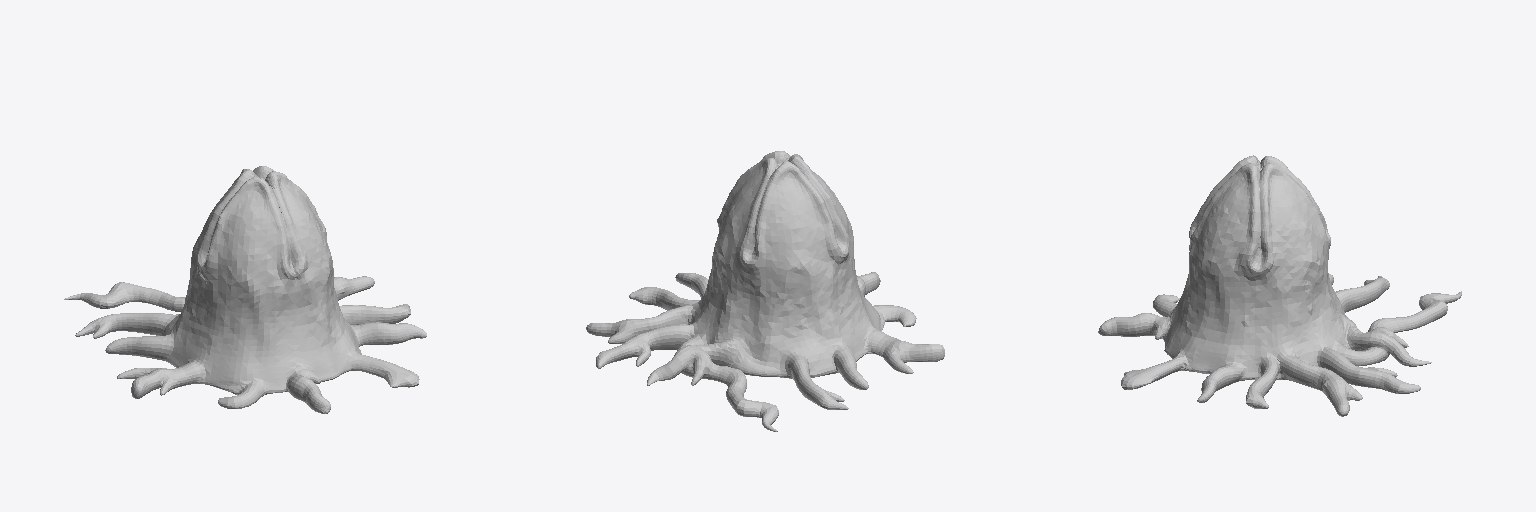
File: alian egg2.obj
3 renders of one model, left to right at view 1: azimuth 30°, elevation 25°; view 2: azimuth 150°, elevation 25°; view 3: azimuth 270°, elevation 25°, orthographic.
Visible parts, largest first — view 1: alian egg; view 2: alian egg; view 3: alian egg.
Part boxes in pixels (x1,y1,x2,y2): alian egg: (64, 166, 426, 413); alian egg: (586, 151, 944, 431); alian egg: (1098, 155, 1461, 416).
Size of the model in its own units: 1.14 by 0.6807 by 1.2.